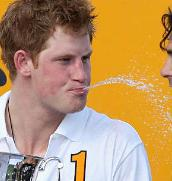Spitting: (0, 0, 117, 117)
